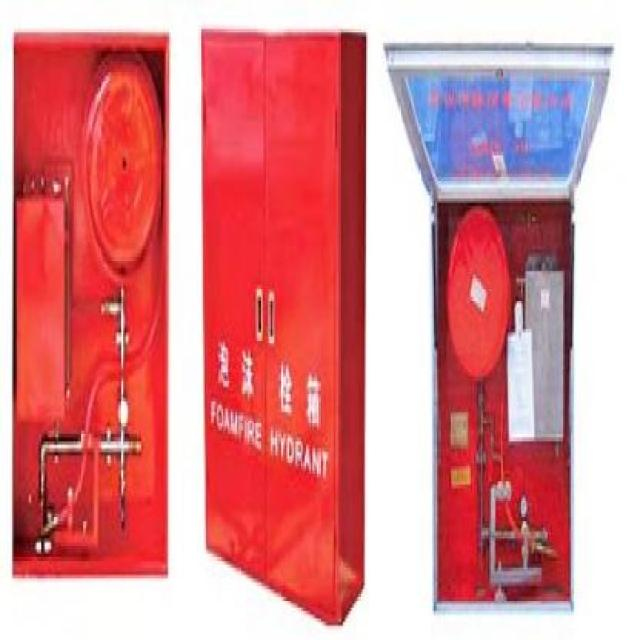firehydrant: (382, 26, 620, 623), (198, 18, 372, 630), (9, 22, 173, 590)
